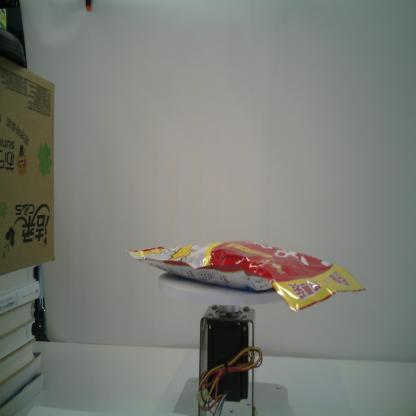Instant Drink: (124, 239, 367, 314)
